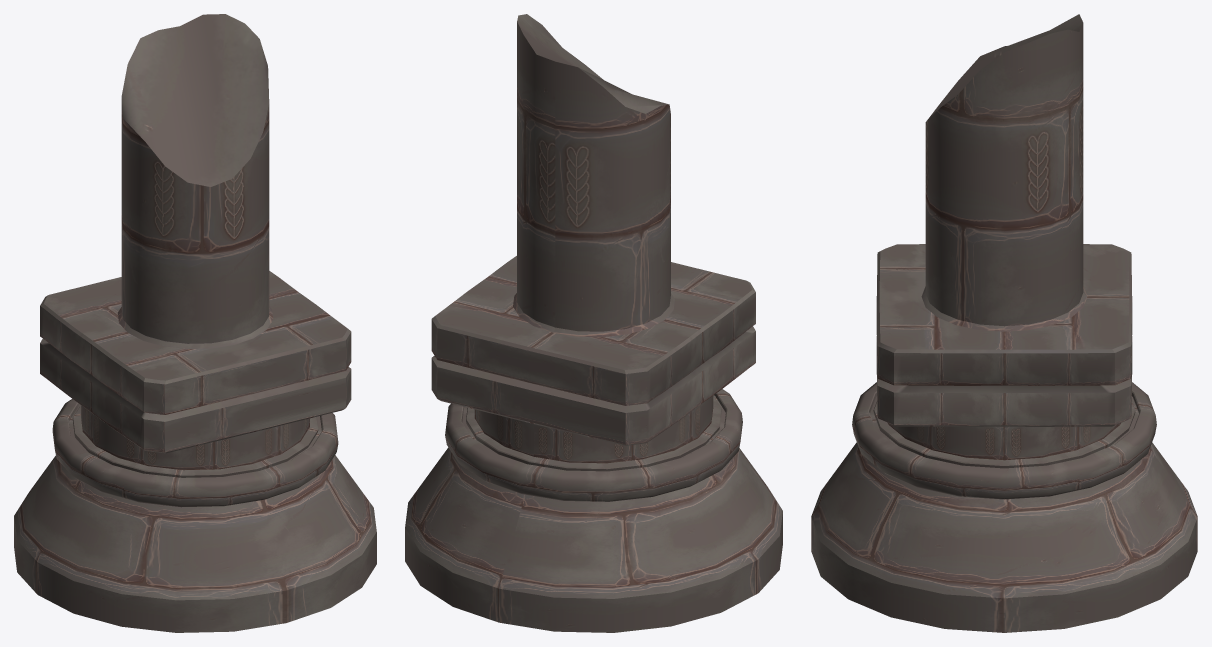
The model's file is PillarDamaged2_1.fbx.
3 renders of one model, left to right at view 1: azimuth 30°, elevation 25°; view 2: azimuth 150°, elevation 25°; view 3: azimuth 270°, elevation 25°, orthographic. The views are drawn at different scales.
Parts seen in each view (by area): view 1: pasted__pasted__polySurface63; view 2: pasted__pasted__polySurface63; view 3: pasted__pasted__polySurface63.
Boxes of the visible parts, x1=… form: pasted__pasted__polySurface63: x1=14, y1=14, x2=376, y2=632; pasted__pasted__polySurface63: x1=405, y1=14, x2=782, y2=632; pasted__pasted__polySurface63: x1=811, y1=14, x2=1197, y2=632.
Size of the model in its own units: 55.85 by 86.8 by 55.85.
